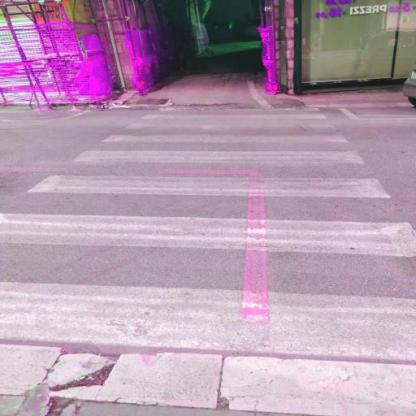crosswalk: (0, 211, 414, 348), (16, 146, 396, 202)
